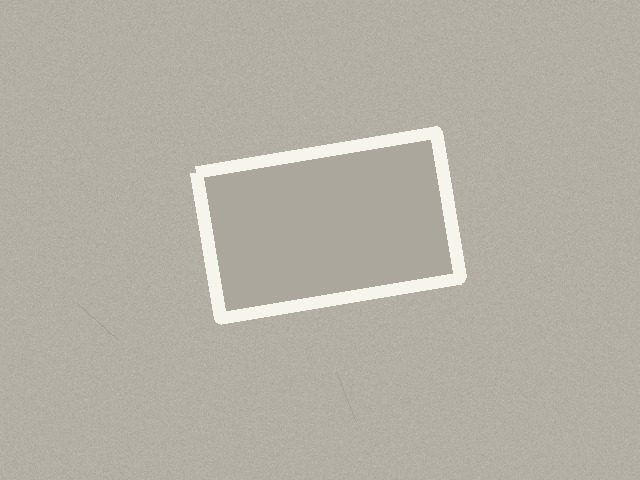parking_area: (196, 132, 460, 318)
